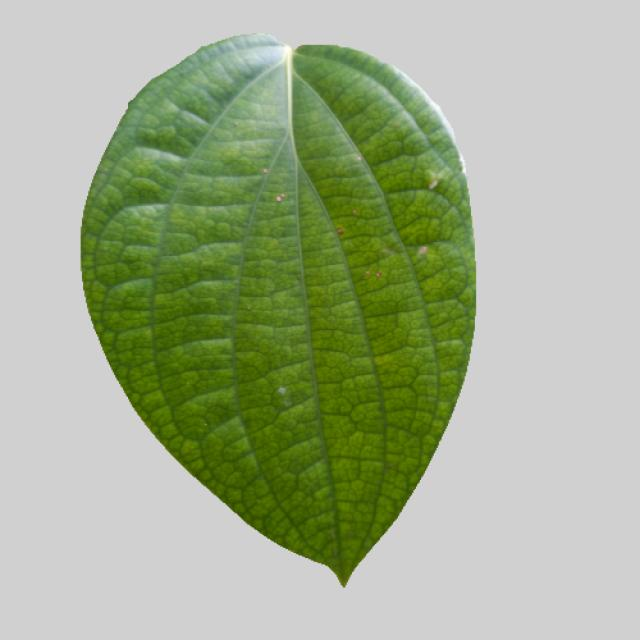healthy: (73, 32, 476, 590)
